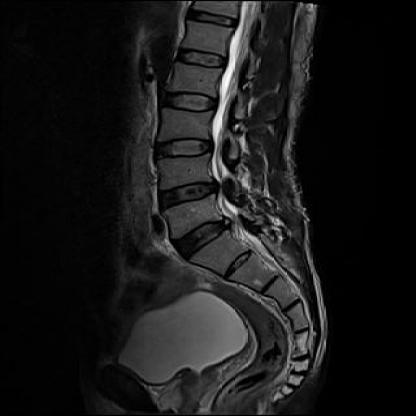Disc Bulgerotation: (168, 218, 240, 252)
